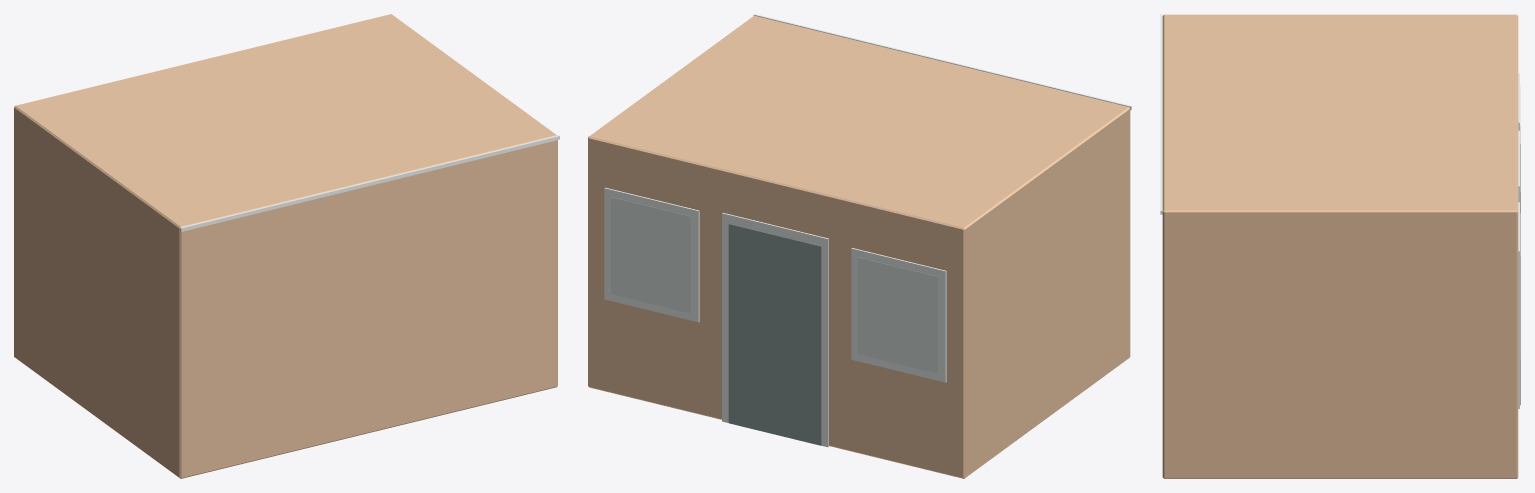
Rendered from house_body.glb.
3 renders of one model, left to right at view 1: azimuth 30°, elevation 25°; view 2: azimuth 150°, elevation 25°; view 3: azimuth 270°, elevation 25°, orthographic. The views are drawn at different scales.
Visible parts, largest first — view 1: wood, carpetWhite; view 2: wood, carpetWhite, metalDark, glass; view 3: wood, carpetWhite.
Part boxes in pixels (left/top/right/bottom): wood: left=14, top=14, right=557, bottom=478; carpetWhite: left=180, top=135, right=559, bottom=231; wood: left=588, top=15, right=1130, bottom=478; carpetWhite: left=604, top=14, right=1131, bottom=447; metalDark: left=728, top=224, right=821, bottom=445; glass: left=611, top=197, right=938, bottom=373; wood: left=1162, top=14, right=1518, bottom=478; carpetWhite: left=1160, top=14, right=1519, bottom=408.
Size of the model in its own units: 2 by 1.27 by 1.55.
